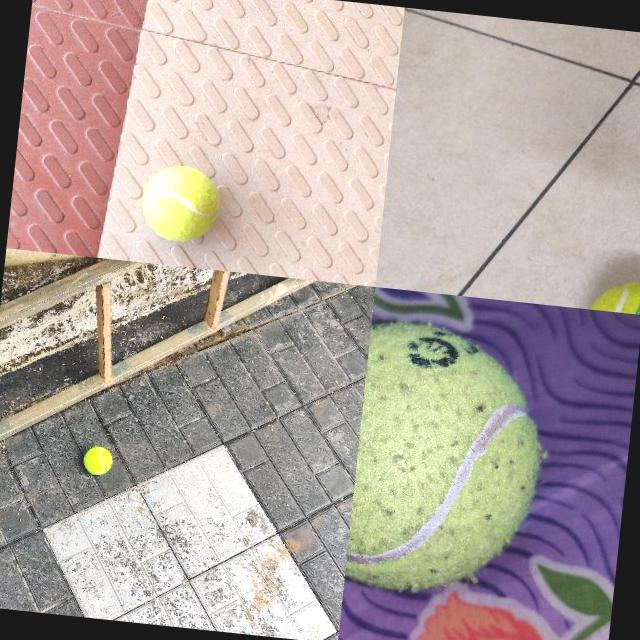tennis-ball: (344, 317, 554, 604), (139, 162, 223, 245), (82, 445, 114, 477)
